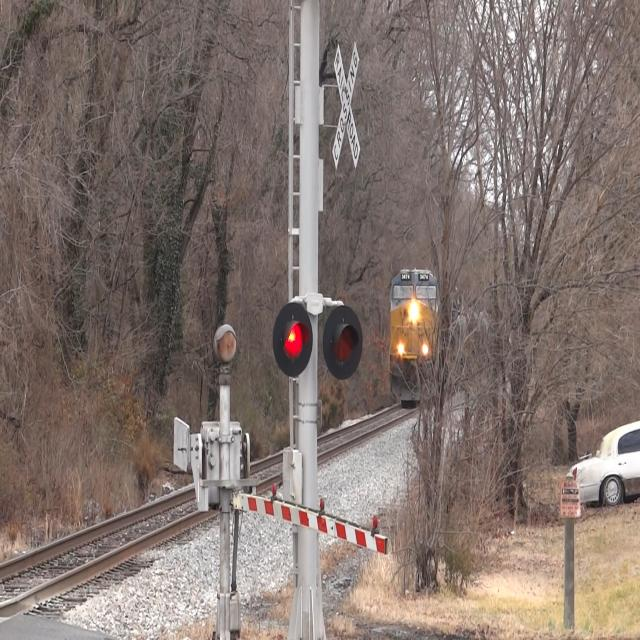locomotive: (382, 266, 444, 414)
